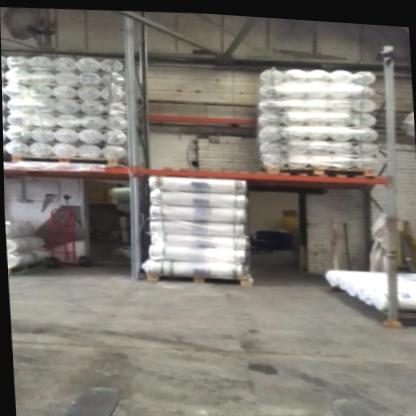vertical_damage: (125, 257, 150, 282)
